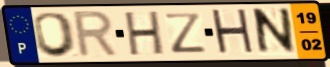H: (209, 7, 258, 58), (124, 9, 166, 58)
N: (254, 6, 298, 58)
O: (31, 11, 80, 59)
R: (72, 9, 121, 60)
Z: (162, 11, 209, 54)
